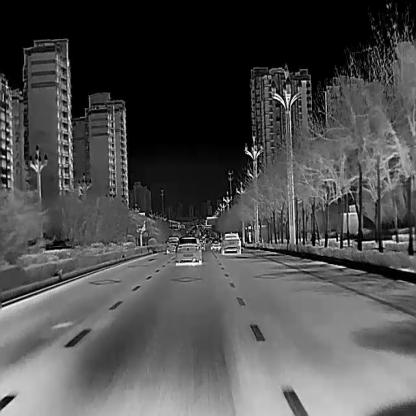car: (174, 235, 202, 264), (221, 230, 242, 254), (165, 235, 180, 253), (209, 238, 220, 250)
